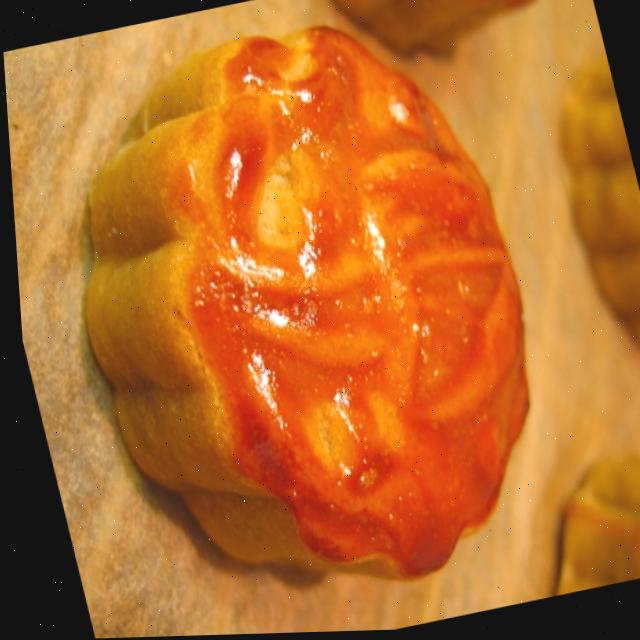蛋糕甜品: (7, 0, 608, 640)
